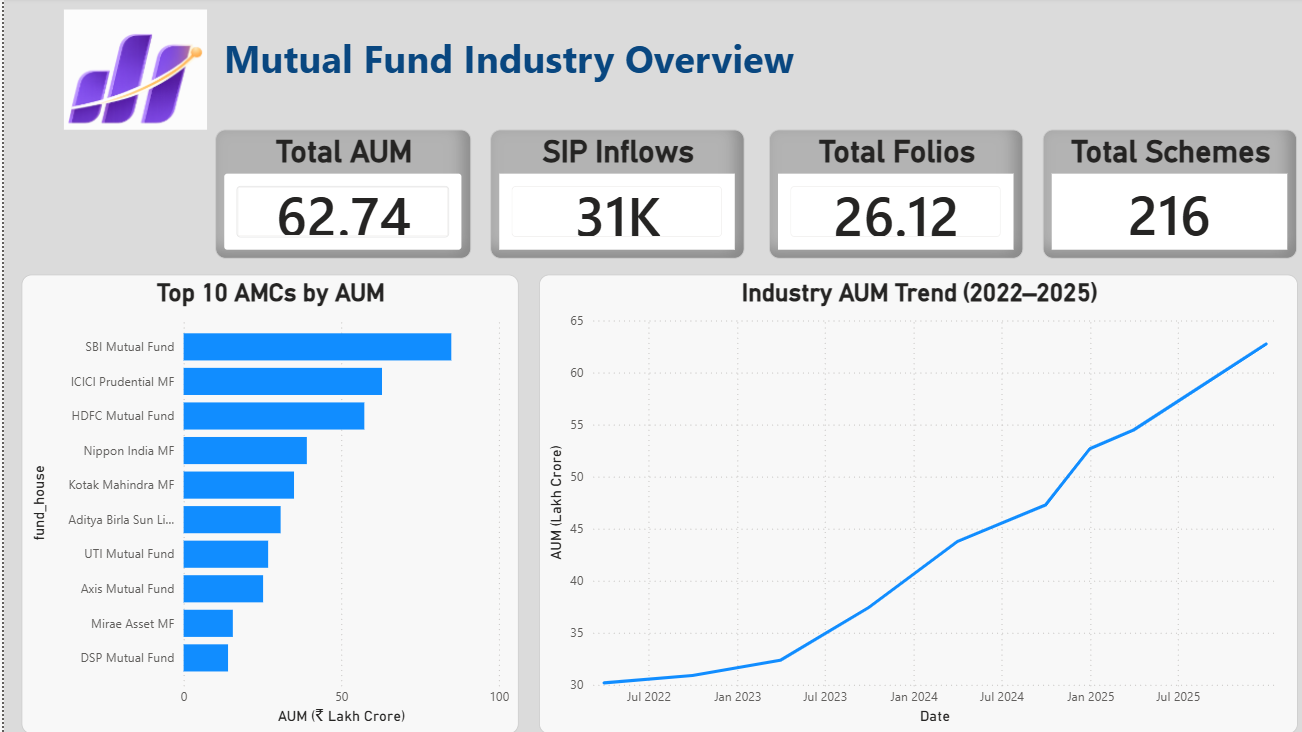

What the dashboard file says about the page in this screenshot:
{"tool":"powerbi","page":{"name":"Page 1","canvas":[1280,720],"ordinal":0},"visuals":[{"type":"cardVisual","title":"Total AUM","fields":{"Data":["03_aum_by_fund_house.Total AUM"]},"box":[206.3,129.7,250.5,126.7],"z":0},{"type":"lineChart","title":"Industry AUM Trend (2022–2025)","fields":{"Y":["Sum(03_aum_by_fund_house.aum_lakh_crore)"],"Category":["03_aum_by_fund_house.date"]},"box":[523,271.1,742.5,449.4],"z":1000},{"type":"clusteredBarChart","title":"Top 10 AMCs by AUM","fields":{"Category":["03_aum_by_fund_house.fund_house"],"Y":["Sum(03_aum_by_fund_house.aum_lakh_crore)"]},"box":[17.7,271.1,486.2,449.4],"z":2000},{"type":"cardVisual","title":"SIP Inflows","fields":{"Data":["04_monthly_sip_inflows.SIP Inflows"]},"box":[475.9,129.7,249,126.7],"z":3000},{"type":"cardVisual","title":"Total Folios","fields":{"Data":["06_industry_folio_count.Total Folios"]},"box":[748.4,129.7,249,126.7],"z":4000},{"type":"cardVisual","title":"Total Schemes","fields":{"Data":["03_aum_by_fund_house.Total Schemes"]},"box":[1016.6,129.7,249,126.7],"z":5000},{"type":"textbox","box":[176.8,29.5,633.5,82.5],"z":6000},{"type":"image","box":[32.4,11.8,191.5,117.9],"z":6001}]}

Visuals, with their boxes in screenshot pixels (x1, y1, x2, y2), scaled from the page's 1280x720 canvas onto the 1302x732 screenshot:
"Total AUM" cardVisual: (210, 132, 465, 261)
"Industry AUM Trend (2022–2025)" lineChart: (532, 276, 1287, 731)
"Top 10 AMCs by AUM" clusteredBarChart: (18, 276, 513, 731)
"SIP Inflows" cardVisual: (484, 132, 737, 261)
"Total Folios" cardVisual: (761, 132, 1015, 261)
"Total Schemes" cardVisual: (1034, 132, 1287, 261)
textbox: (180, 30, 824, 114)
image: (33, 12, 228, 132)
